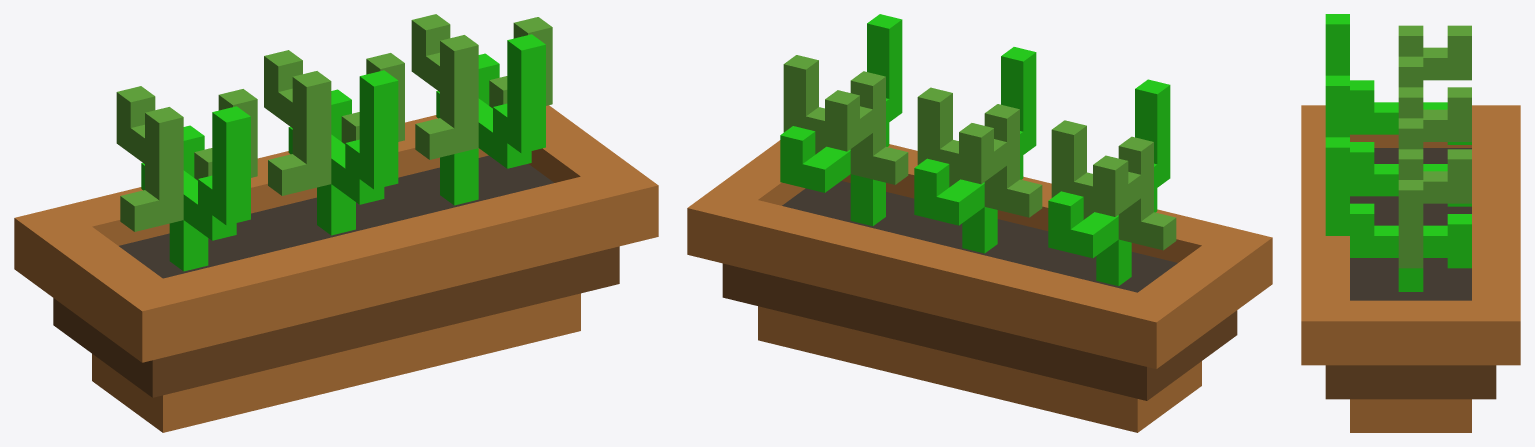
Rendered from Proto_101_pot_01_big.dae.
The picture shows the model from 3 angles, left to right: view 1: azimuth 30°, elevation 25°; view 2: azimuth 150°, elevation 25°; view 3: azimuth 270°, elevation 25°; orthographic projection. The views are drawn at different scales.
Visible parts, largest first — view 1: Box_3; view 2: Box_3; view 3: Box_3.
Boxes of the visible parts, <box> form: Box_3: <box>14,14,658,432</box>; Box_3: <box>687,14,1272,432</box>; Box_3: <box>1301,14,1520,432</box>.
Size of the model in its own units: 21 by 12 by 9.
